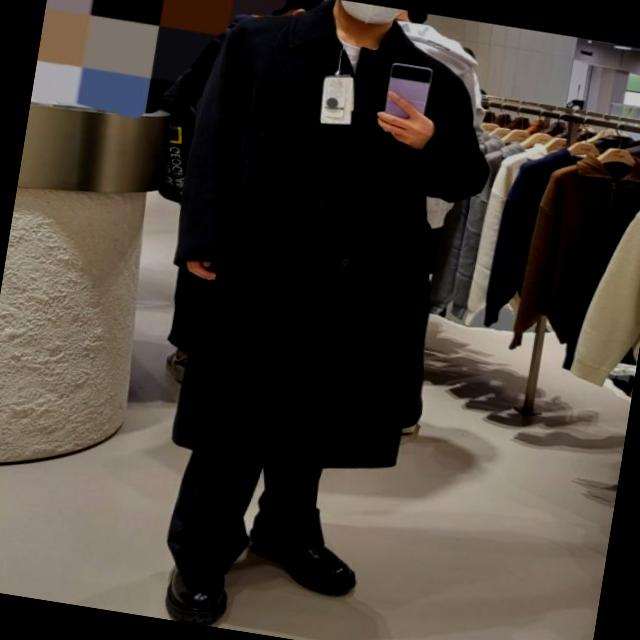coat: (138, 0, 512, 495)
slacks: (162, 447, 340, 593)
